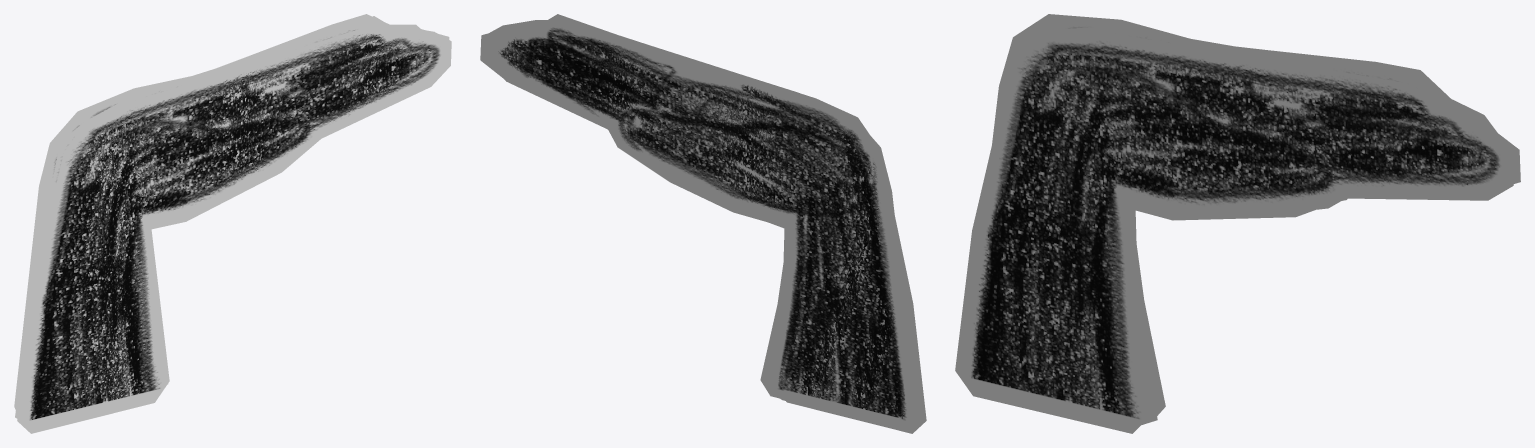
The model's file is Hand.fbx.
The picture shows the model from 3 angles, left to right: view 1: azimuth 30°, elevation 25°; view 2: azimuth 150°, elevation 25°; view 3: azimuth 330°, elevation 25°; orthographic projection. The views are drawn at different scales.
Visible parts, largest first — view 1: Hand3, Hand1, Hand2; view 2: Hand1, Hand2, Hand3; view 3: Hand3, Hand1, Hand2.
Boxes of the visible parts, x1,y1,x2,y2 form: Hand3: (17, 26, 451, 433); Hand1: (14, 14, 420, 410); Hand2: (15, 16, 449, 418); Hand1: (488, 16, 916, 431); Hand2: (480, 14, 922, 427); Hand3: (490, 20, 926, 433); Hand3: (955, 28, 1514, 433); Hand1: (992, 14, 1497, 415); Hand2: (1016, 26, 1520, 424).
Size of the model in its own units: 54.87 by 39.92 by 1.33.
Materials: 1 (1 with a texture image).
